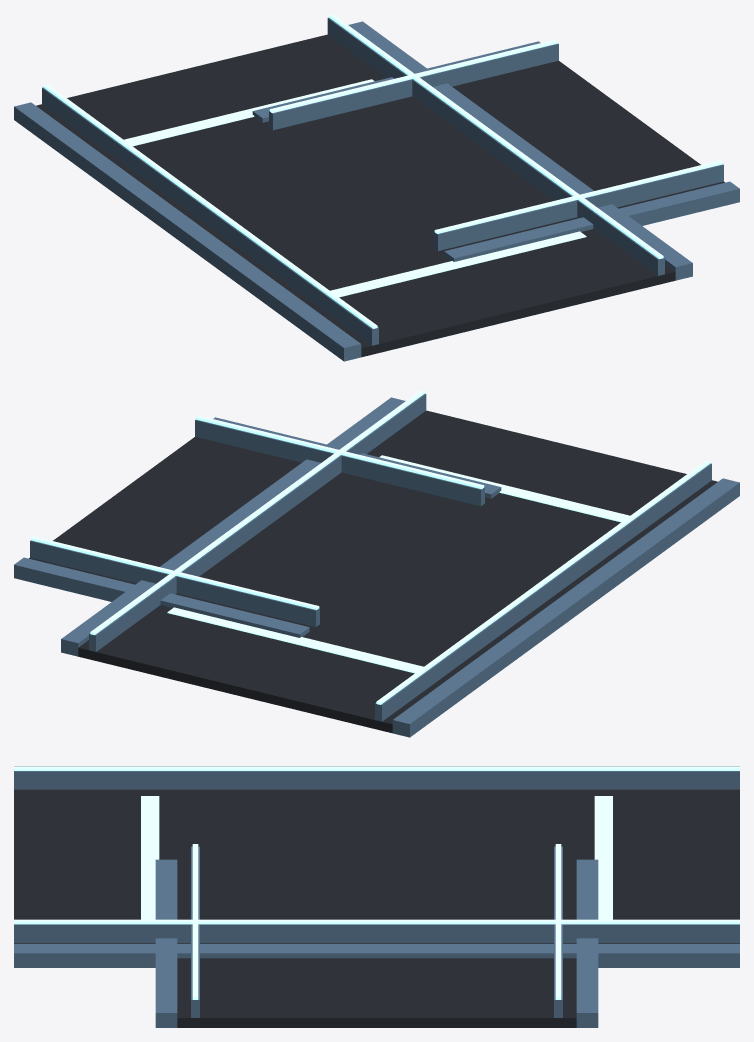
Rendered from road_future_tee.glb.
3 views of the same model, one above another, from view 1: azimuth 30°, elevation 25°; view 2: azimuth 150°, elevation 25°; view 3: azimuth 270°, elevation 25° (orthographic). The views are drawn at different scales.
Visible parts, largest first — view 1: body; view 2: body; view 3: body.
Boxes of the visible parts, <box> form: body: <box>14,14,739,361</box>; body: <box>14,390,739,737</box>; body: <box>14,766,739,1027</box>.
Size of what is drawn, in the model's own units: 6.44 by 0.37 by 8.
